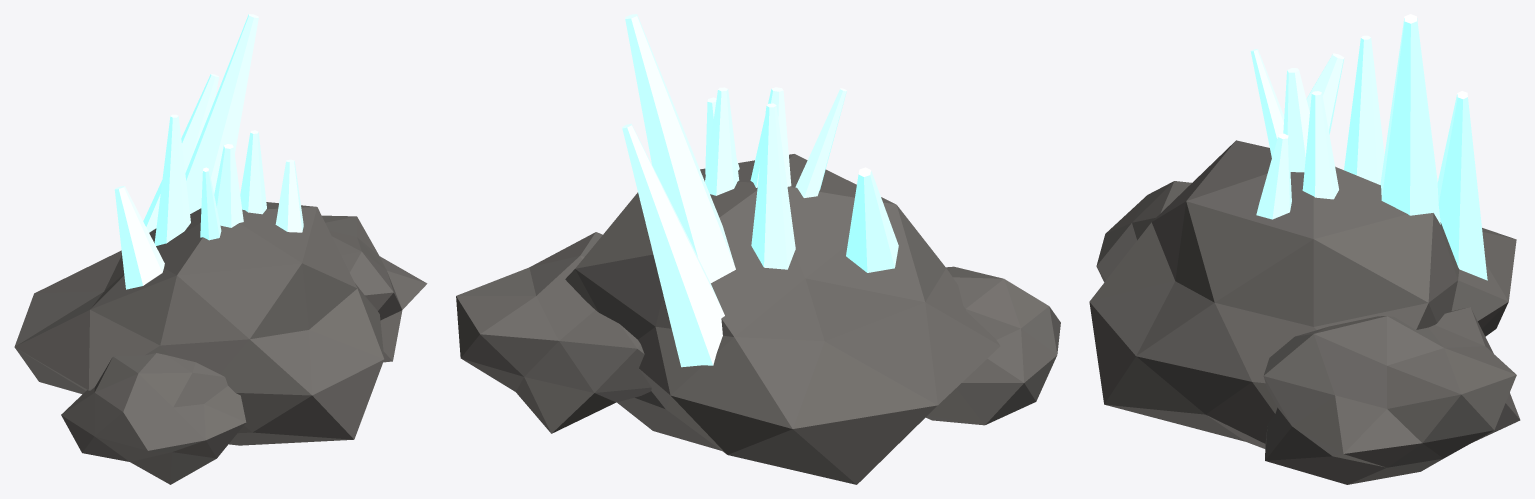
The model's file is ore-lumen.glb.
3 renders of one model, left to right at view 1: azimuth 30°, elevation 25°; view 2: azimuth 150°, elevation 25°; view 3: azimuth 270°, elevation 25°, orthographic. The views are drawn at different scales.
Parts seen in each view (by area): view 1: ore-lumen; view 2: ore-lumen; view 3: ore-lumen.
Part boxes in pixels (bbox=[...]): ore-lumen: bbox=[14, 14, 427, 484]; ore-lumen: bbox=[456, 14, 1060, 484]; ore-lumen: bbox=[1089, 14, 1520, 484].
Size of the model in its own units: 1.96 by 1.64 by 1.47.
